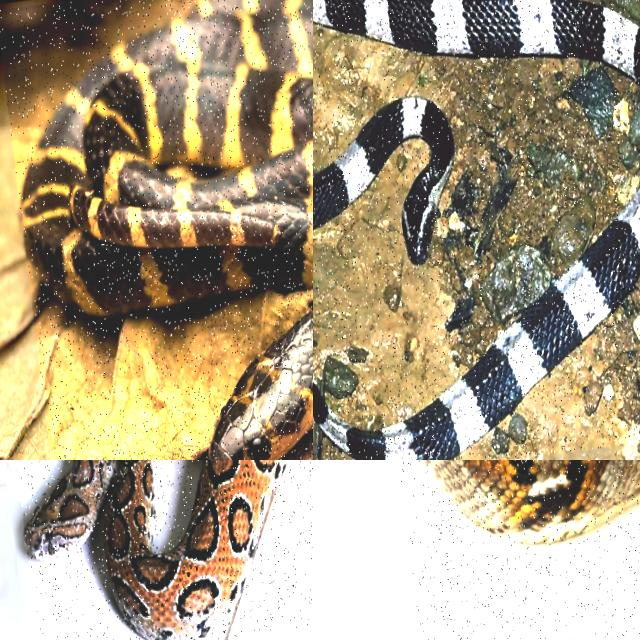Bungarus candidus: (313, 186, 639, 459)
Bungarus fasciatus: (21, 0, 312, 315)
Daboia siamensis: (25, 460, 290, 639)
Malayopython reticulatus: (423, 460, 639, 542)
